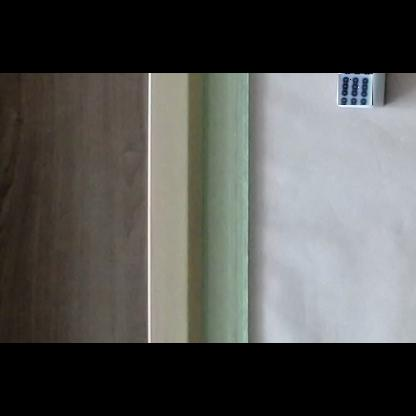6s: (338, 73, 373, 105)
